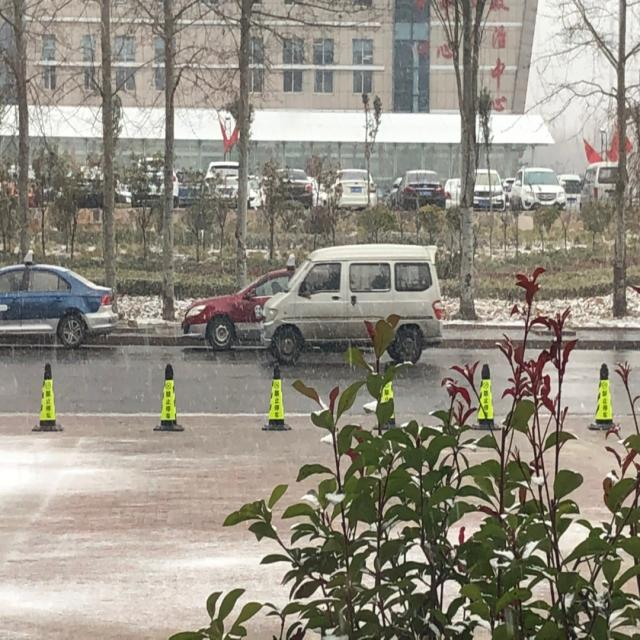car: (259, 241, 444, 365), (179, 254, 297, 351), (1, 250, 116, 348), (577, 160, 632, 207), (508, 166, 566, 210), (133, 156, 178, 207), (396, 168, 446, 208), (333, 167, 378, 207), (203, 158, 239, 206), (470, 167, 505, 211), (276, 166, 313, 207)
reflective_cone: (31, 362, 64, 431), (152, 362, 185, 430), (471, 362, 503, 430), (586, 363, 618, 430), (260, 365, 292, 430), (372, 360, 401, 429)
